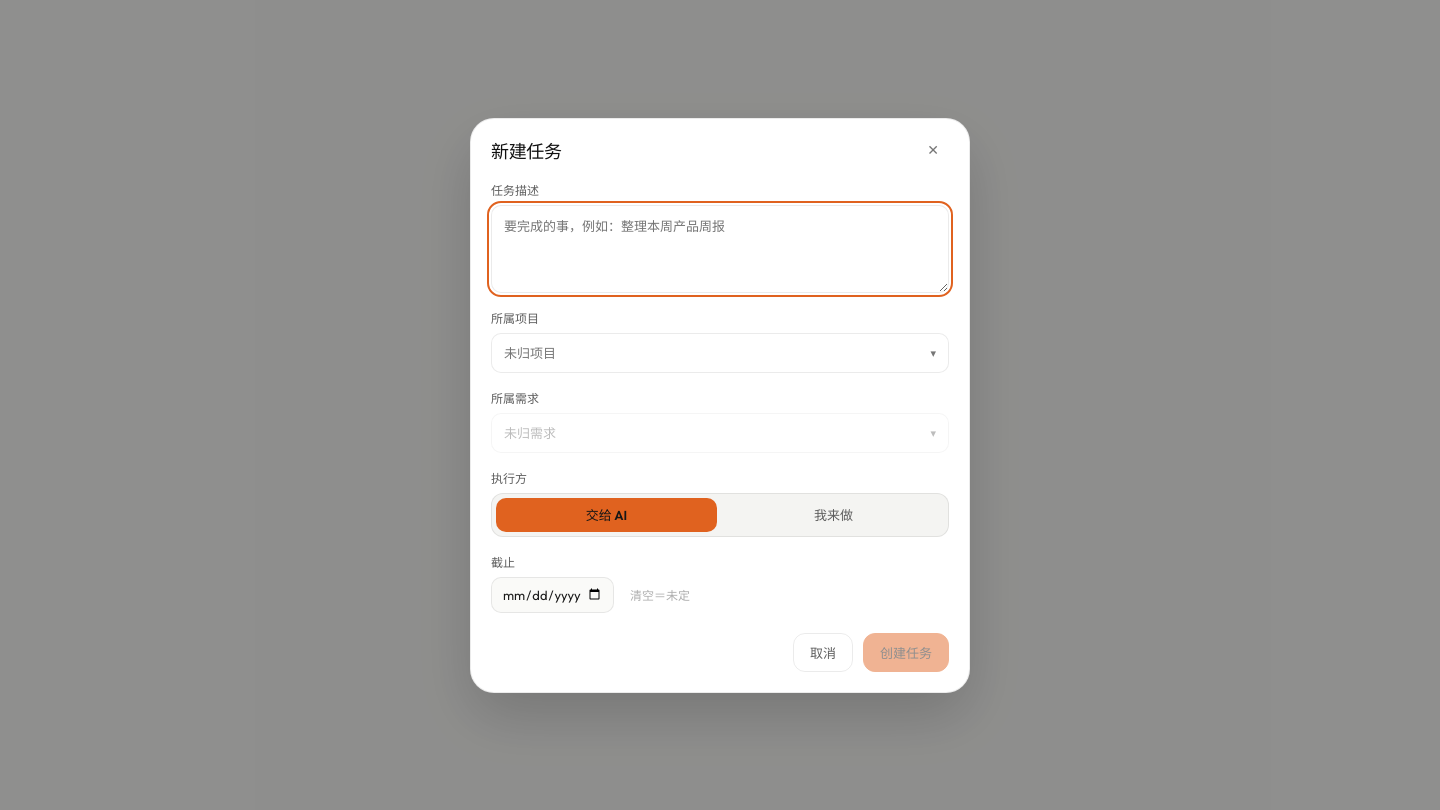
Test: TaskEditModal 新建：所属需求 › 所属项目未选时所属需求禁用，选完项目才拉出该项目的需求
The width and height of the screenshot is (1440, 810).
Expected: the button "未归需求 ▾" is disabled, 491,412 -> 949,452
Click the button "未归项目 ▾". click: (530, 353)
box: 491,332 -> 949,372
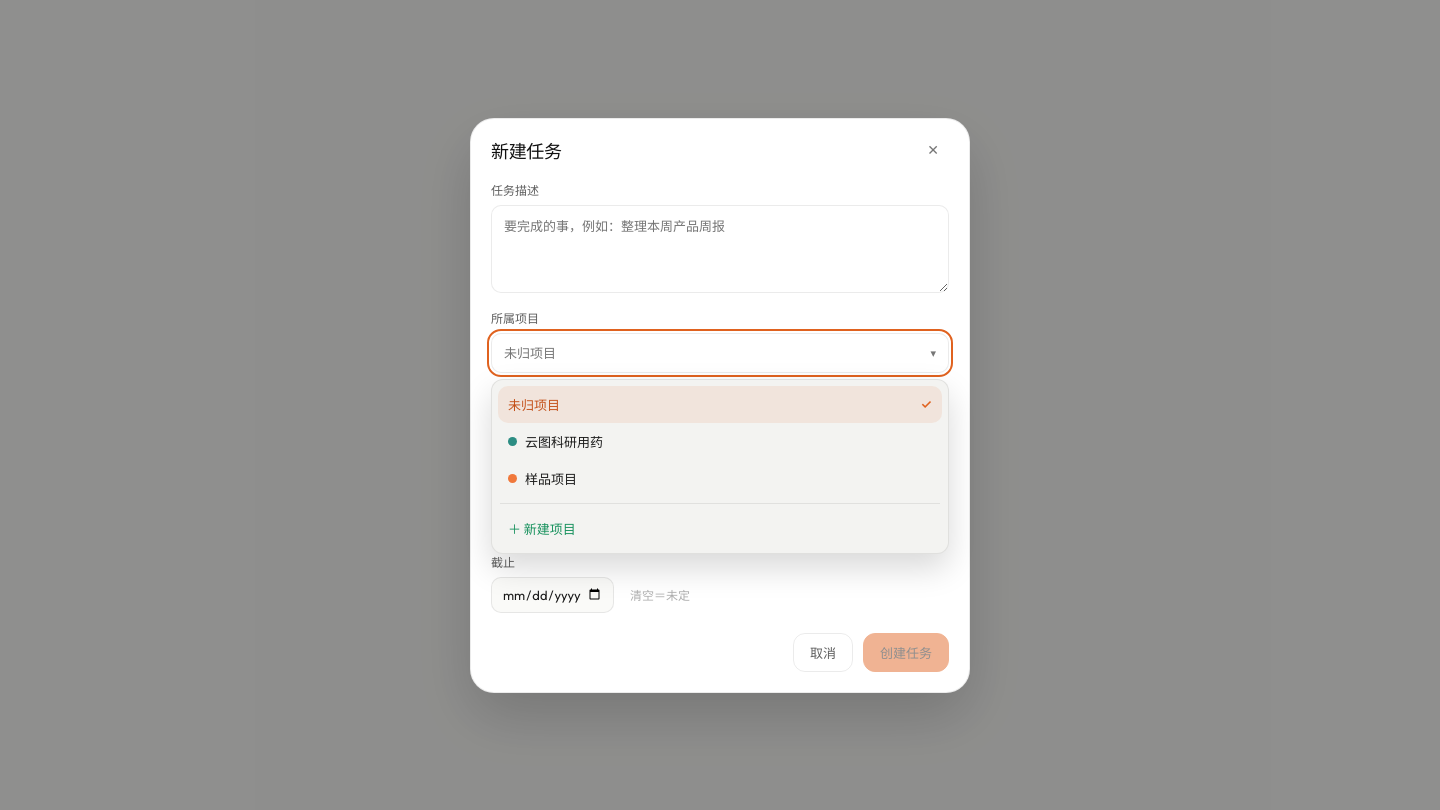
Click the option "云图科研用药". click: (564, 442)
box: 498,422 -> 942,460
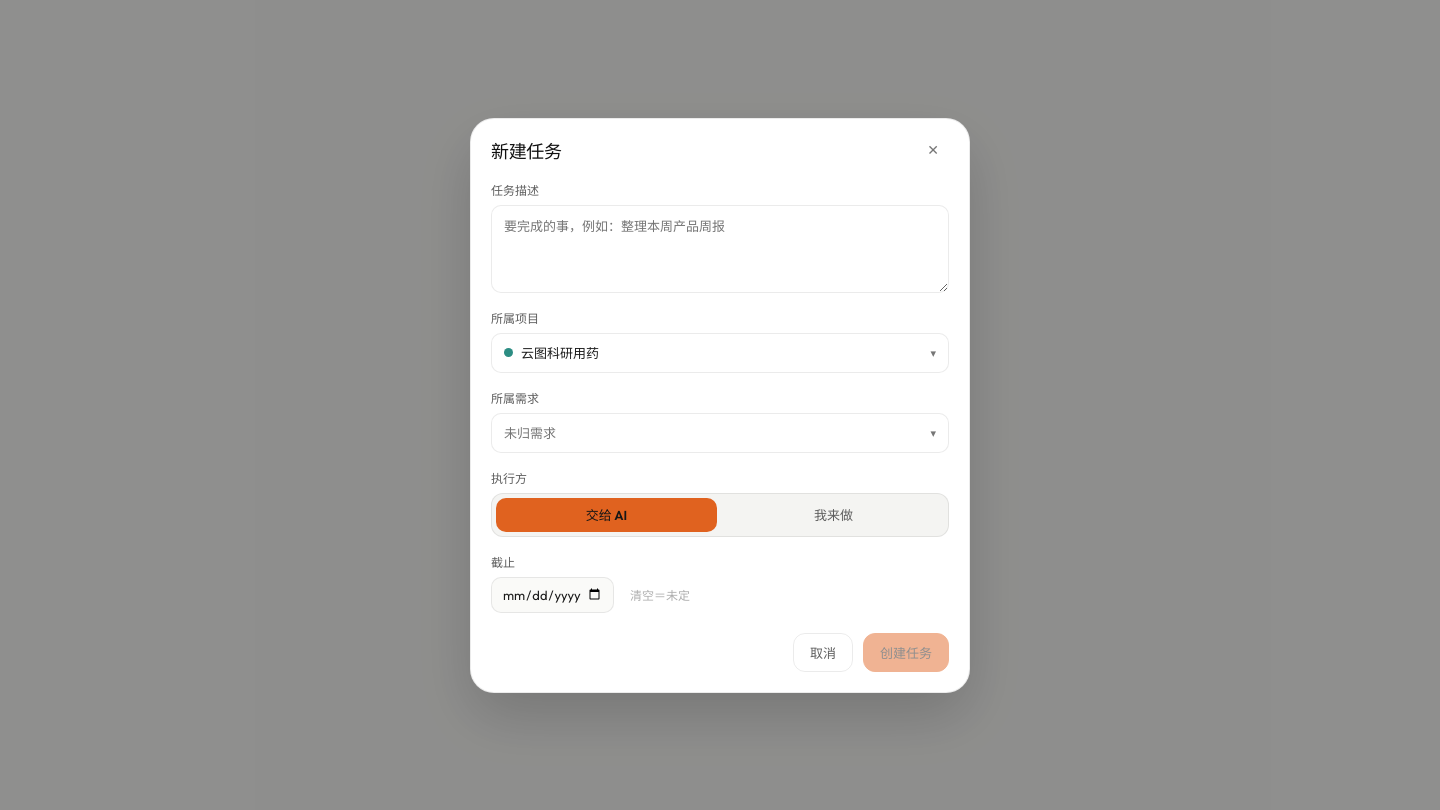
Expected: the button "未归需求 ▾" is enabled
Click the button "未归需求 ▾". click: (530, 433)
box: 491,412 -> 949,452
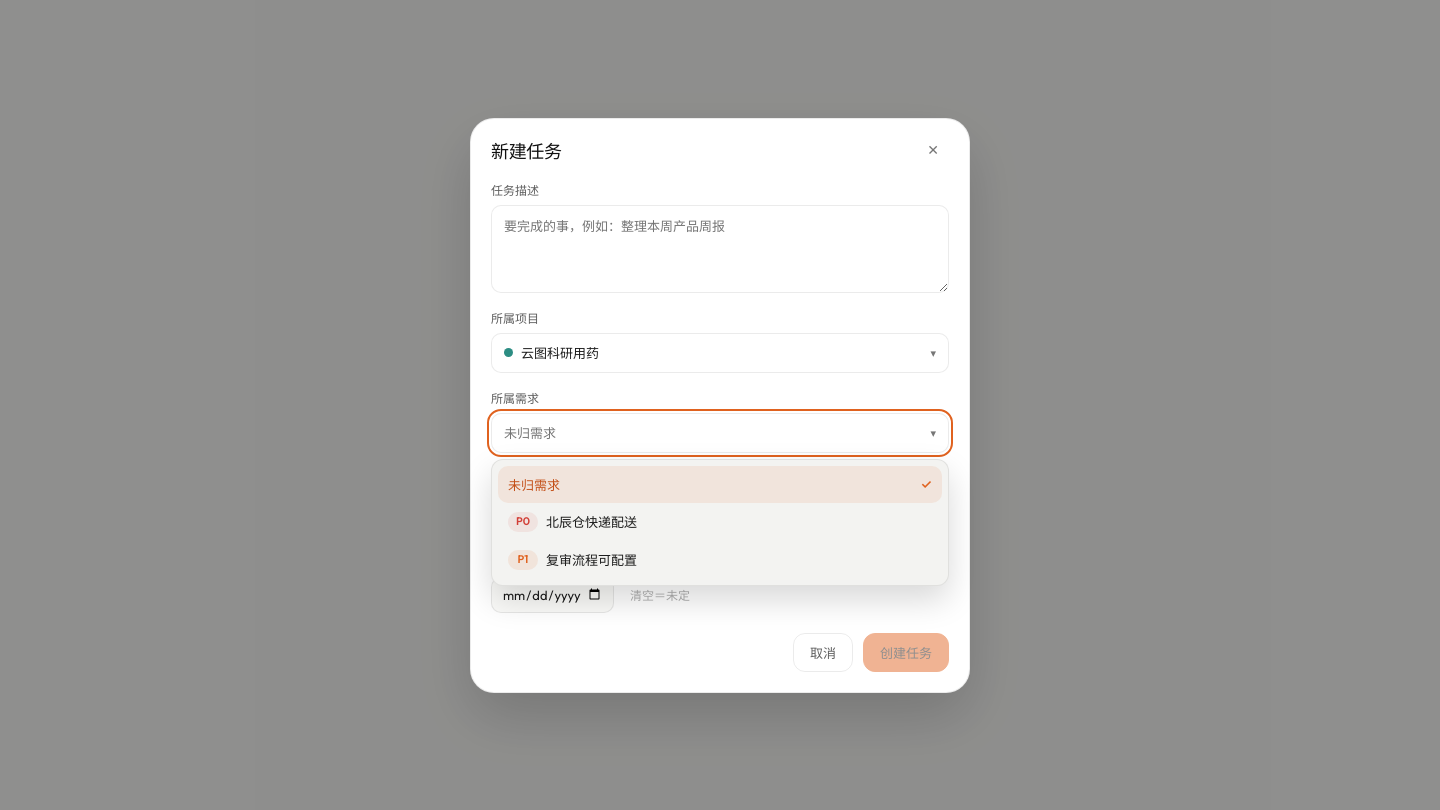
Expected: the option "P0 北辰仓快递配送" is shown, 498,502 -> 942,540
Expected: the option "P1 复审流程可配置" is shown, 498,540 -> 942,578
